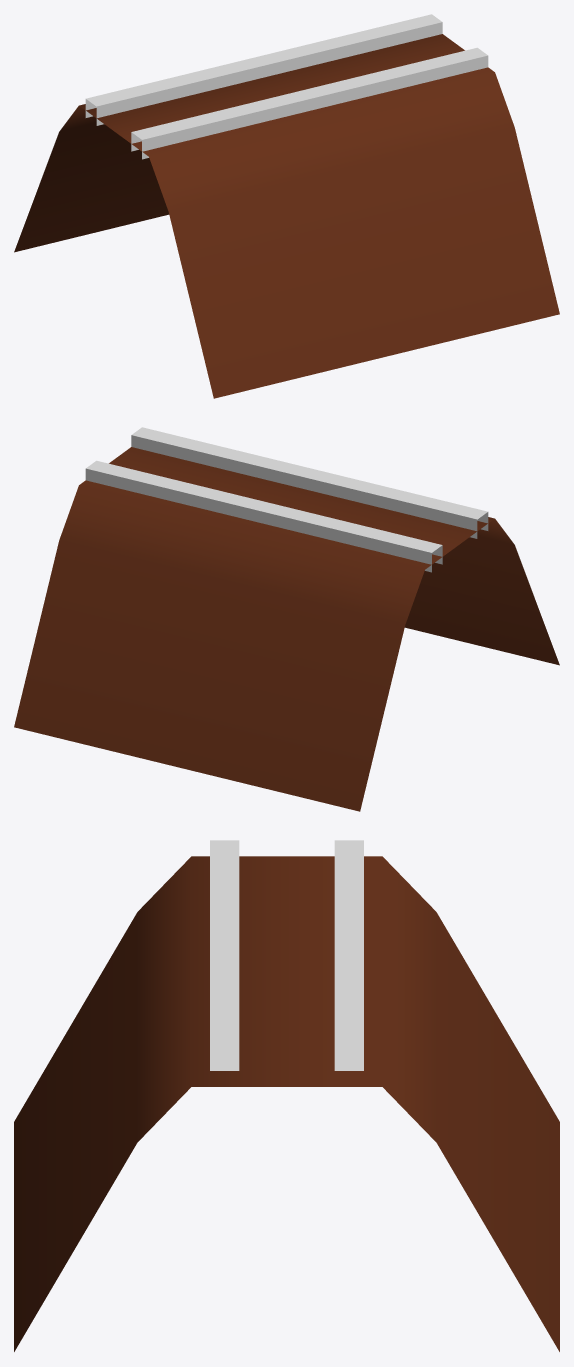
File: Track template.fbx
The picture shows the model from 3 angles, top to bottom: view 1: azimuth 30°, elevation 25°; view 2: azimuth 150°, elevation 25°; view 3: azimuth 270°, elevation 25°; orthographic projection. The views are drawn at different scales.
Parts seen in each view (by area): view 1: Track; view 2: Track; view 3: Track.
Part boxes in pixels (<box>): Track: <box>14,14,559,398</box>; Track: <box>14,427,559,811</box>; Track: <box>14,840,559,1351</box>.
Size of the model in its own units: 1 by 0.5694 by 1.
